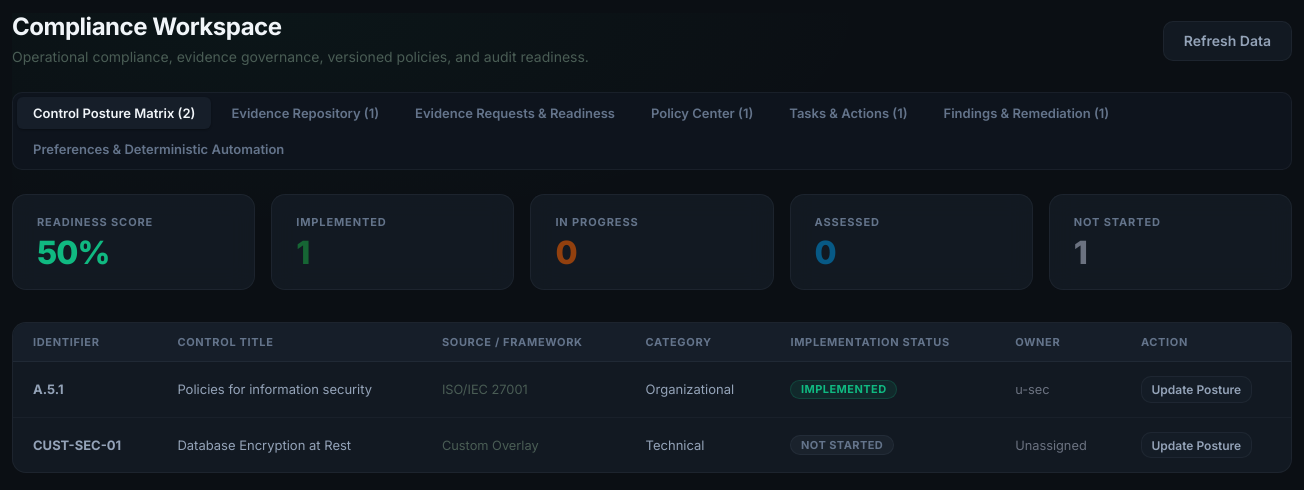
Test: ComplianceWorkspace › enforces independent 2-person approval rule: author cannot approve own policy
The width and height of the screenshot is (1304, 490).
Click the tab "Policy Center (1)".
click(702, 113)  # box [635,97,769,129]
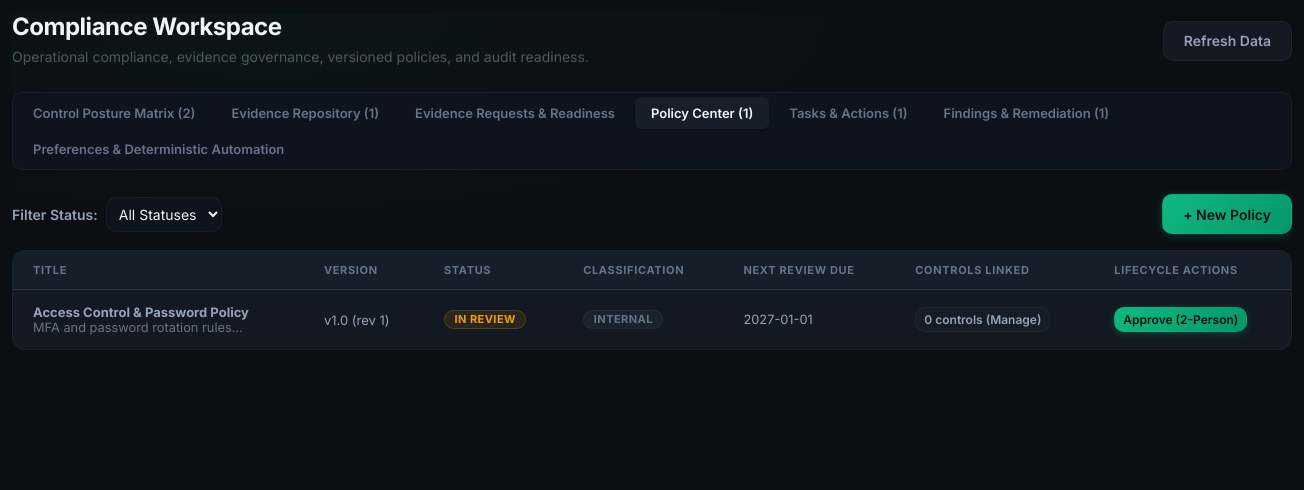
Click the button "Approve (2-Person)".
click(1181, 320)  # box [1114,307,1247,332]
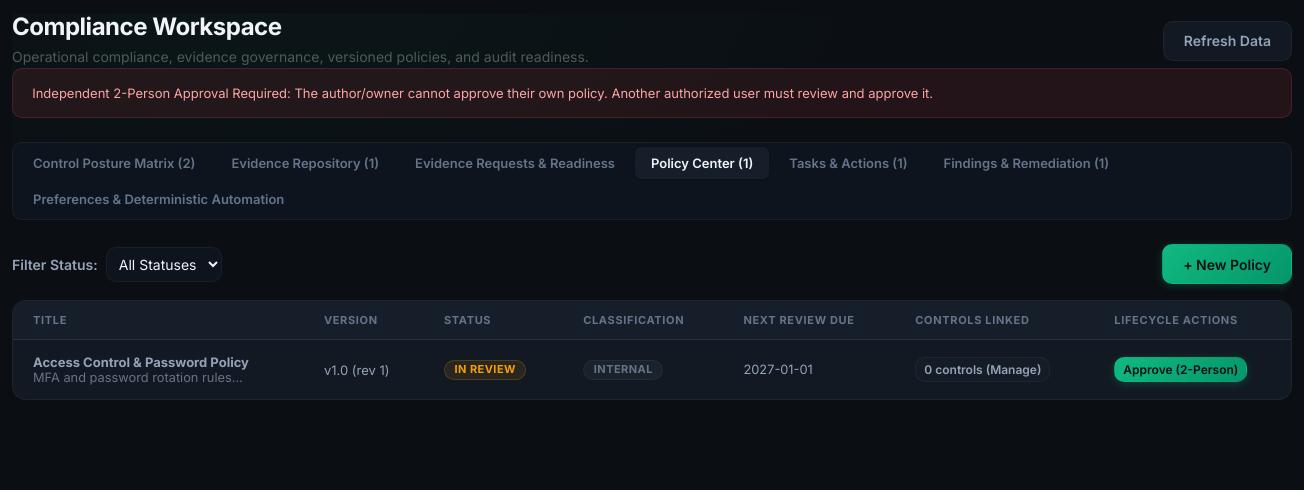
Result: the text "Independent 2-Person Approval Required" is shown at [32,85,933,101]
